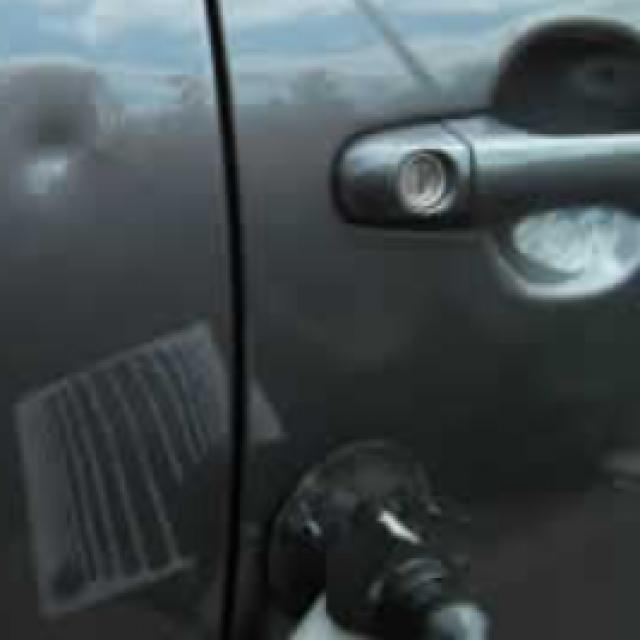dents: (7, 73, 117, 218)
